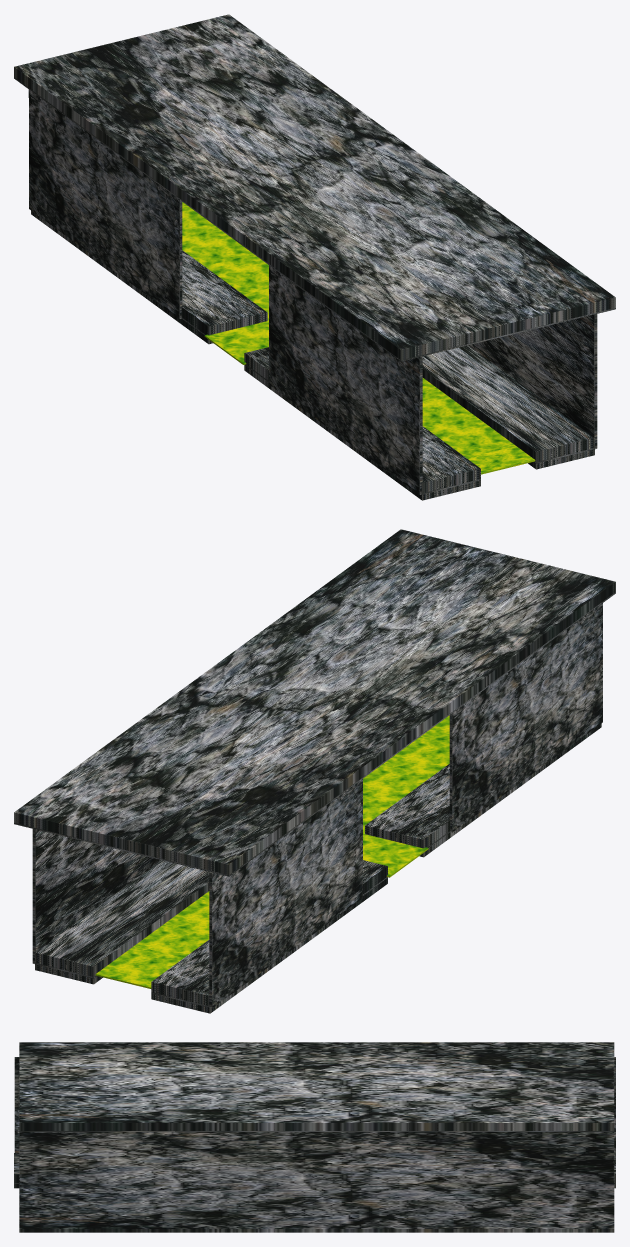
The model's file is level junction.fbx.
3 renders of one model, top to bottom at view 1: azimuth 30°, elevation 25°; view 2: azimuth 150°, elevation 25°; view 3: azimuth 270°, elevation 25°, orthographic. The views are drawn at different scales.
Parts seen in each view (by area): view 1: ceiling, wall 004, wall 1, acid, path 3, wall 3, path 2, path 1; view 2: ceiling, wall 1, wall 004, acid, path 3, wall 3, path 1, path 2; view 3: wall 3, ceiling, path 3, wall 004.
Part boxes in pixels (left/top/right/bottom): ceiling: left=14, top=14, right=615, bottom=361; wall 004: left=269, top=265, right=422, bottom=494; wall 1: left=28, top=89, right=182, bottom=318; acid: left=182, top=202, right=535, bottom=474; path 3: left=420, top=345, right=594, bottom=469; wall 3: left=468, top=313, right=597, bottom=449; path 2: left=31, top=210, right=267, bottom=344; path 1: left=244, top=347, right=480, bottom=500; ceiling: left=14, top=529, right=615, bottom=876; wall 1: left=209, top=779, right=362, bottom=1008; wall 004: left=449, top=603, right=602, bottom=832; acid: left=95, top=715, right=449, bottom=988; path 3: left=35, top=860, right=209, bottom=984; wall 3: left=32, top=828, right=161, bottom=963; path 1: left=365, top=723, right=601, bottom=857; path 2: left=151, top=860, right=387, bottom=1013; wall 3: left=19, top=1132, right=614, bottom=1228; ceiling: left=19, top=1042, right=614, bottom=1131; path 3: left=19, top=1229, right=614, bottom=1232; wall 004: left=14, top=1057, right=19, bottom=1153.
Size of the model in its own units: 4555 by 3087 by 14356.
2 materials, 2 textured.
